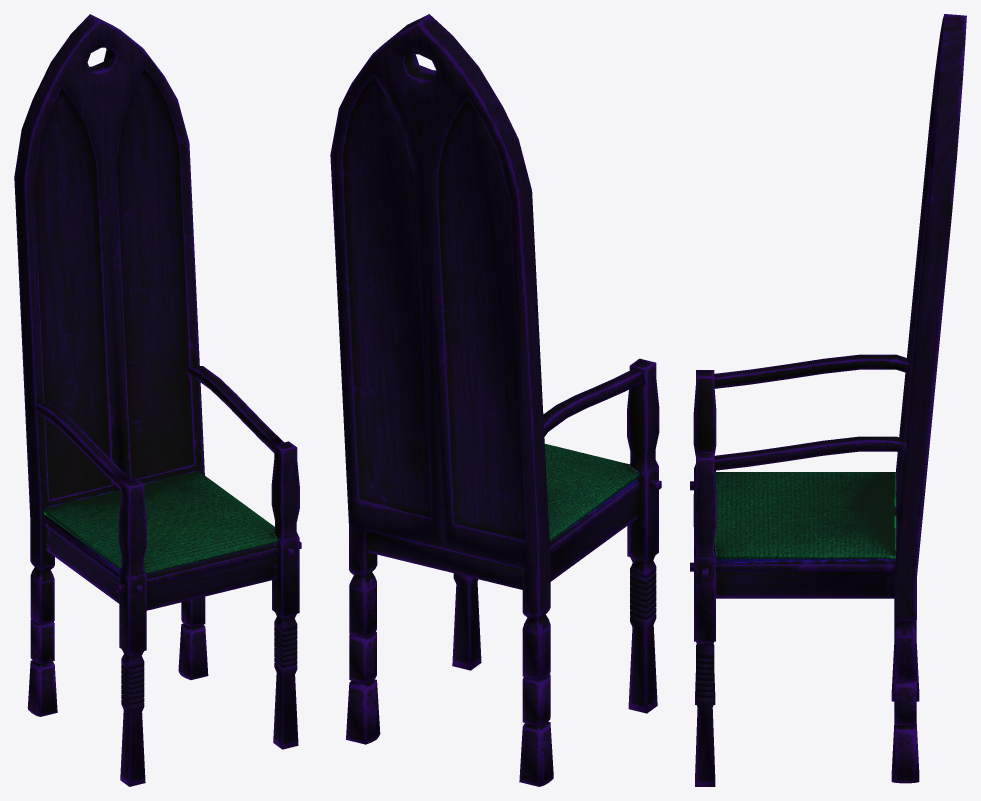
File: cadeira.glb
3 views of the same model, side by side, from view 1: azimuth 30°, elevation 25°; view 2: azimuth 150°, elevation 25°; view 3: azimuth 270°, elevation 25° (orthographic). The views are drawn at different scales.
Parts seen in each view (by area): view 1: Chair_low; view 2: Chair_low; view 3: Chair_low.
Boxes of the visible parts, x1,y1,x2,y2 form: Chair_low: (14,14,301,786); Chair_low: (330,14,661,786); Chair_low: (690,14,966,786).
Bounding box in the file's own units: 2.14 × 7.44 × 2.56.
Materials: 1 (1 with a texture image).
